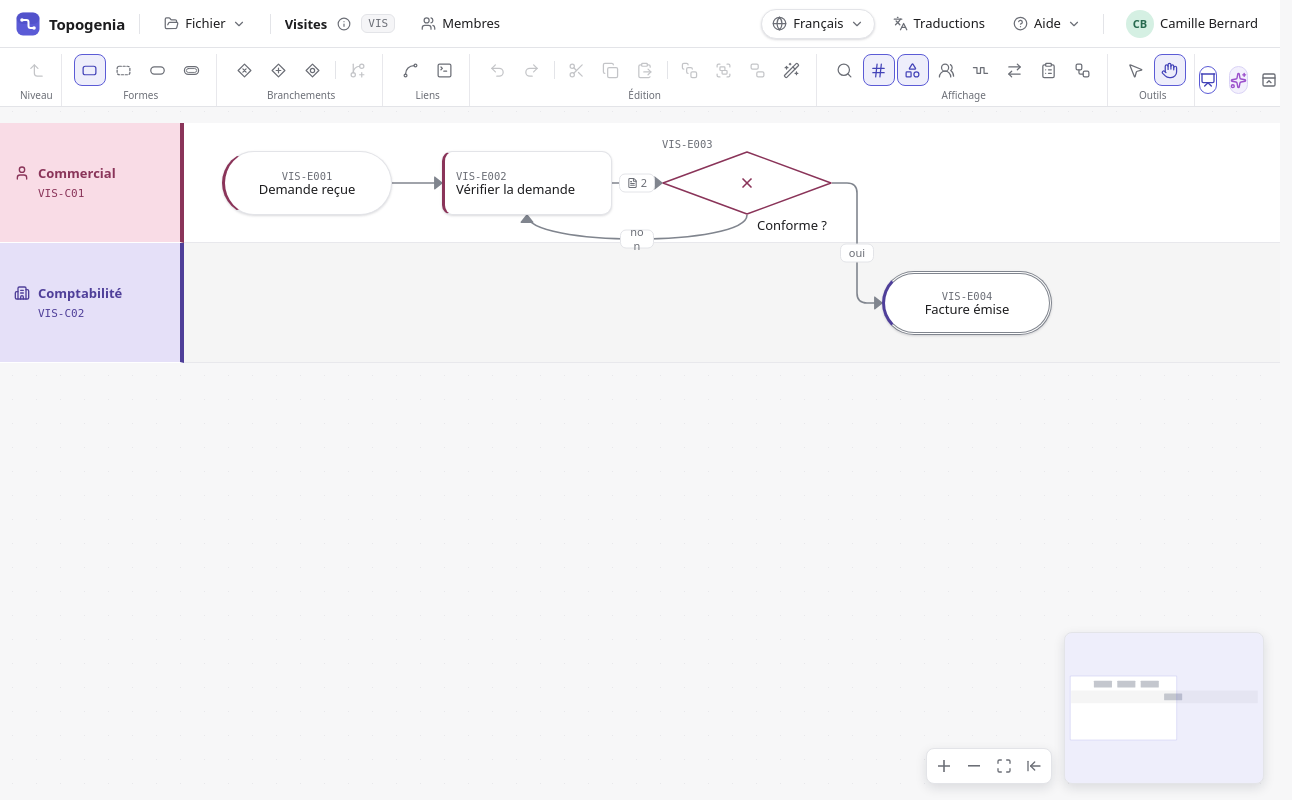
Scenario: the folder of a document, from the profile to the sheet (ADR 104) › is not offered on a server, where the path is still copied
This screenshot has width=1292, height=800.
Click the element showing "VIS-E002 Vérifier la demande" at (527, 183), box x1=442 y1=151 x2=612 y2=215
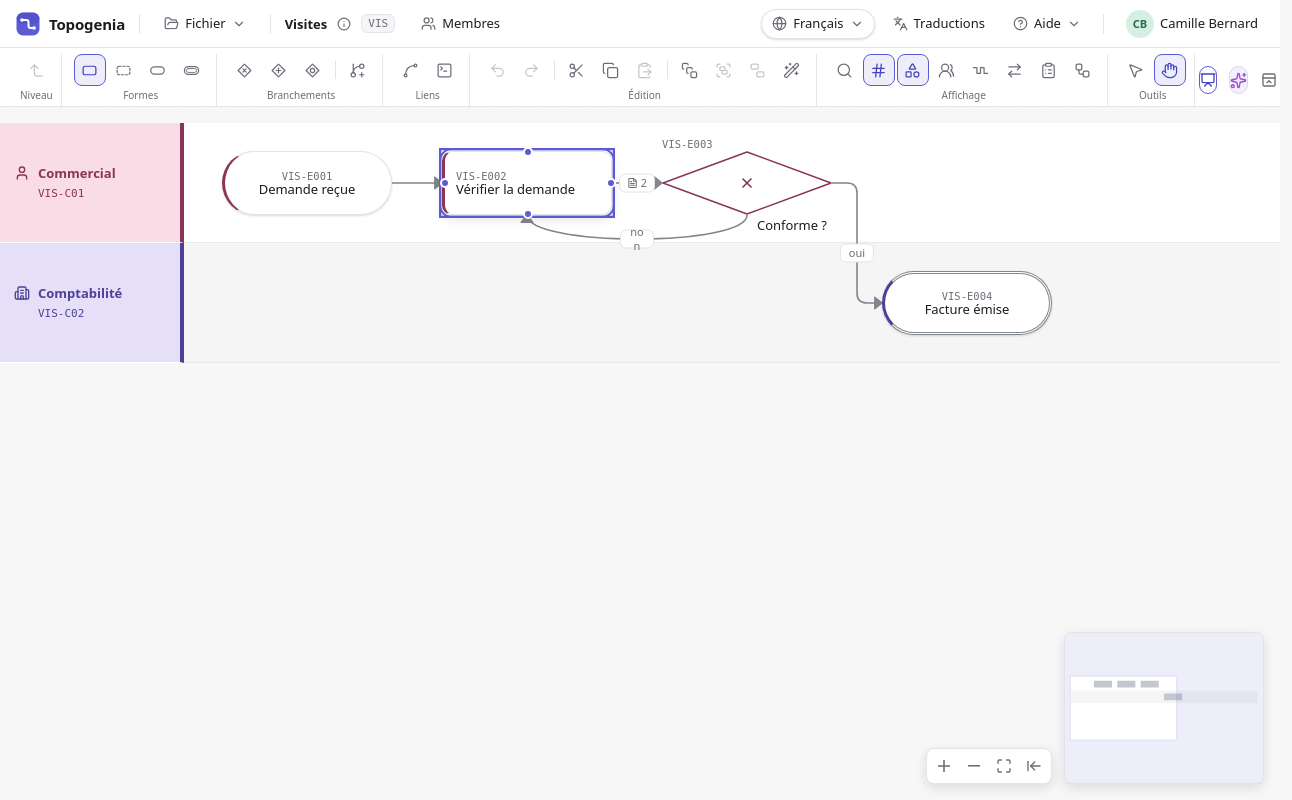
Press Enter in the element showing "VIS-E002 Vérifier la demande", box x1=442 y1=151 x2=612 y2=215
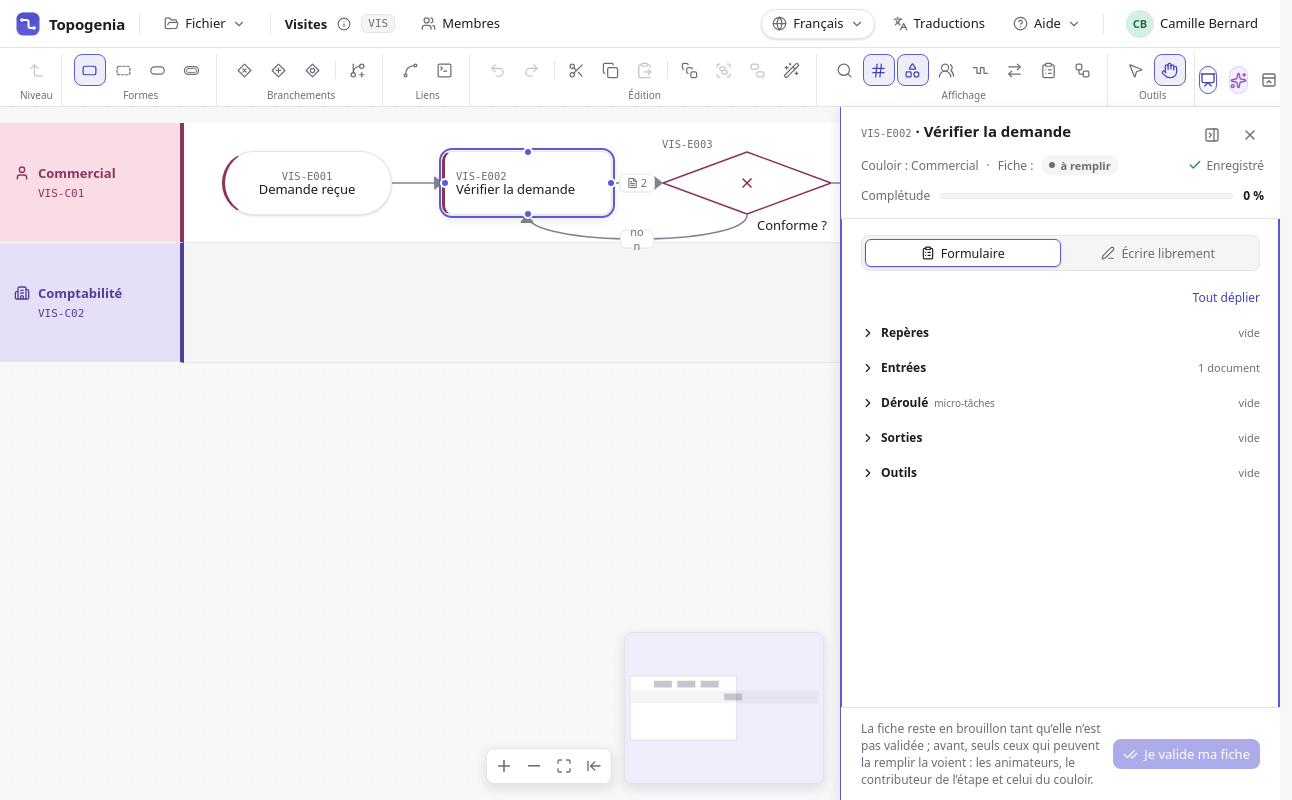
Click the button with test id "sheet-fold-inputs" at (904, 368), box x1=861 y1=359 x2=1260 y2=376
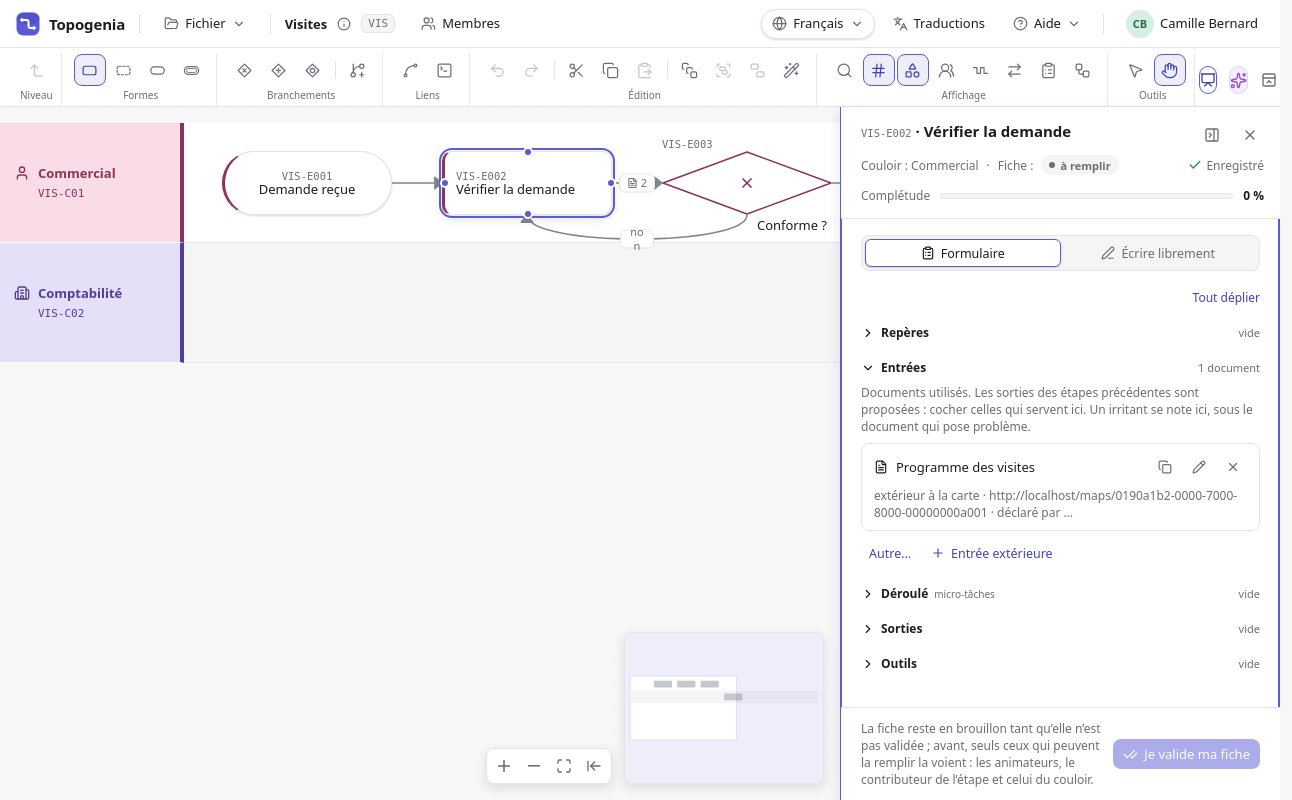
expect the list item with test id "input-e1" is shown: met, box x1=861 y1=443 x2=1260 y2=531
expect the button named "Copier le chemin de « Programme des visites »" is enabled: met, box x1=1151 y1=453 x2=1179 y2=481
